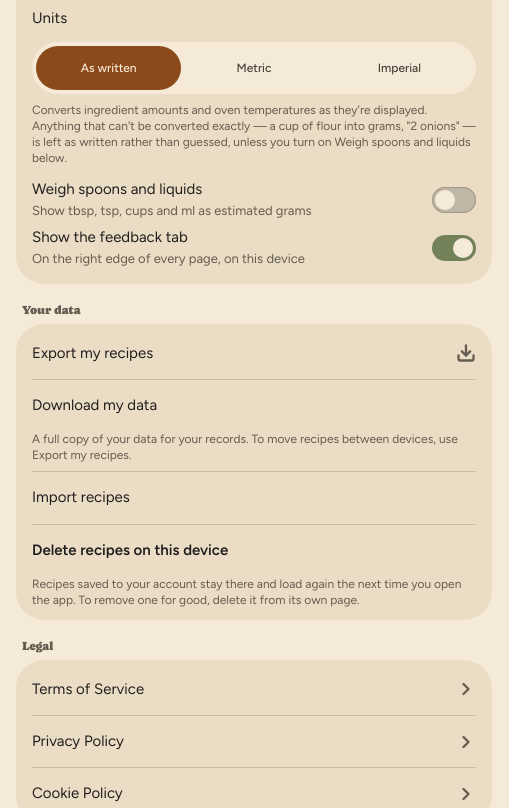
Test: Settings: Download my data › is disabled and says Preparing while running
The width and height of the screenshot is (509, 808).
(page scrolled)
Step 1. Click the button "Download my data" → [95, 405], box [32,380,476,431]
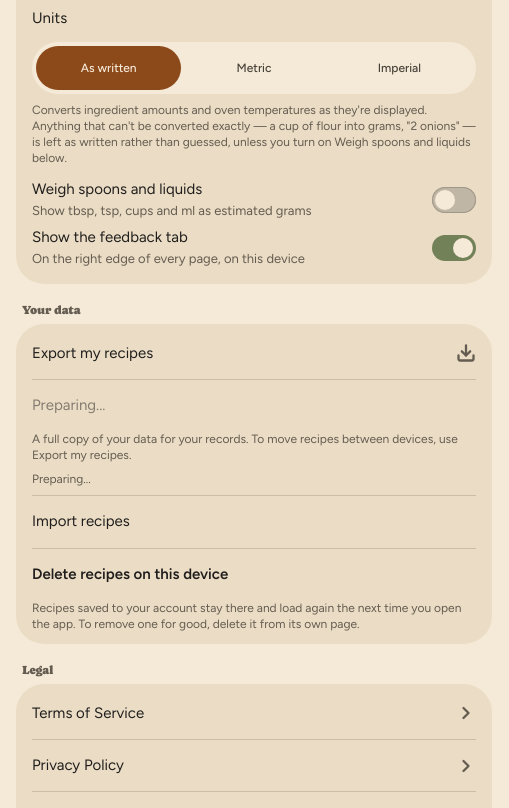
expect the button "Preparing..." is disabled: met, box [32,380,476,431]
